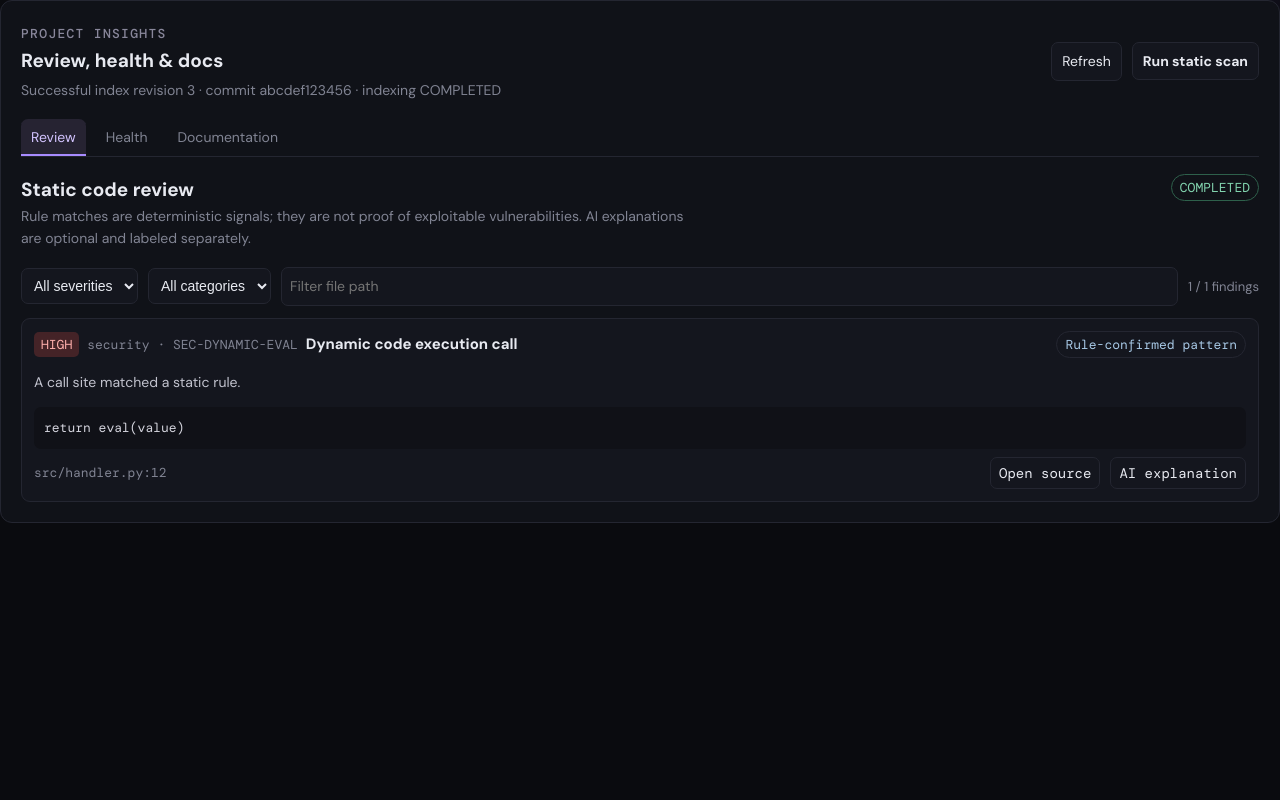
Test: ProjectInsights › shows versioned metrics, filters rule findings, labels AI hypotheses, and previews generated Markdown
Expected: the text "Dynamic code execution call" is shown, [306,333,518,356]
Expected: the text "Rule-confirmed pattern" is shown, [1056,331,1246,358]
Click the button "AI explanation" at {"x": 1178, "y": 473}, box [1110,457,1246,489]
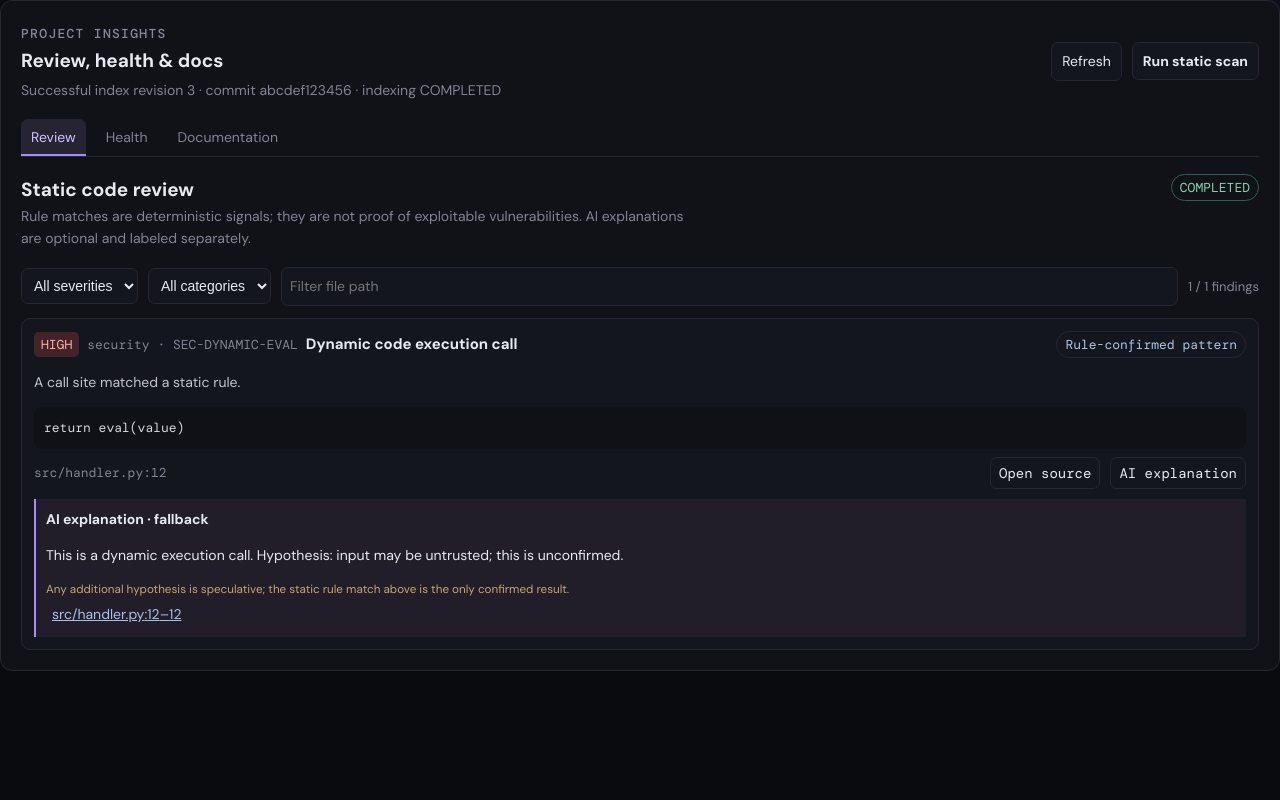
Expected: the text "This is a dynamic execution call" is shown, [46,546,623,564]
Expected: the text "speculative; the static rule match above is the only confirmed result" is shown, [46,581,569,597]
Select "low" in the dropdown named "Filter by severity" at {"x": 80, "y": 286}, box [21,268,138,304]
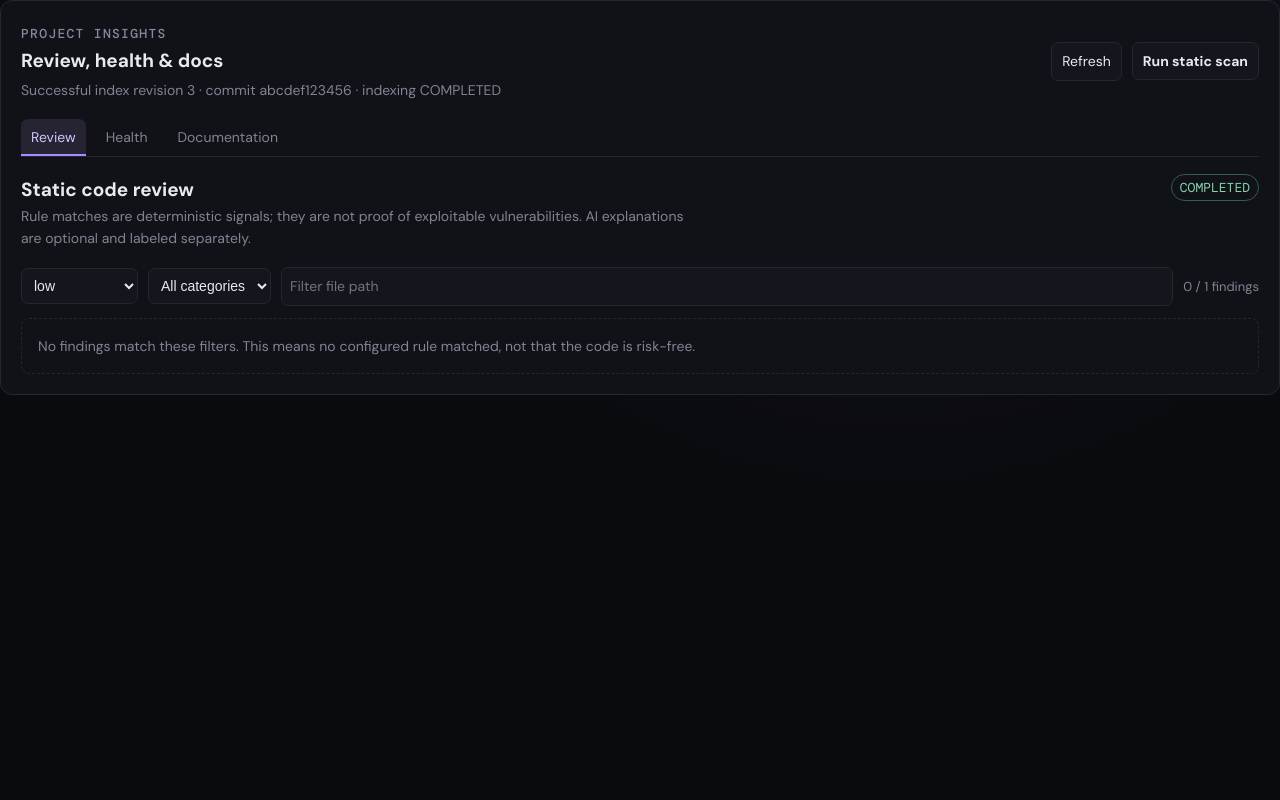
Expected: the text "No findings match these filters" is shown, [38,337,695,355]
Select "high" in the dropdown named "Filter by severity" at {"x": 80, "y": 286}, box [21,268,138,304]
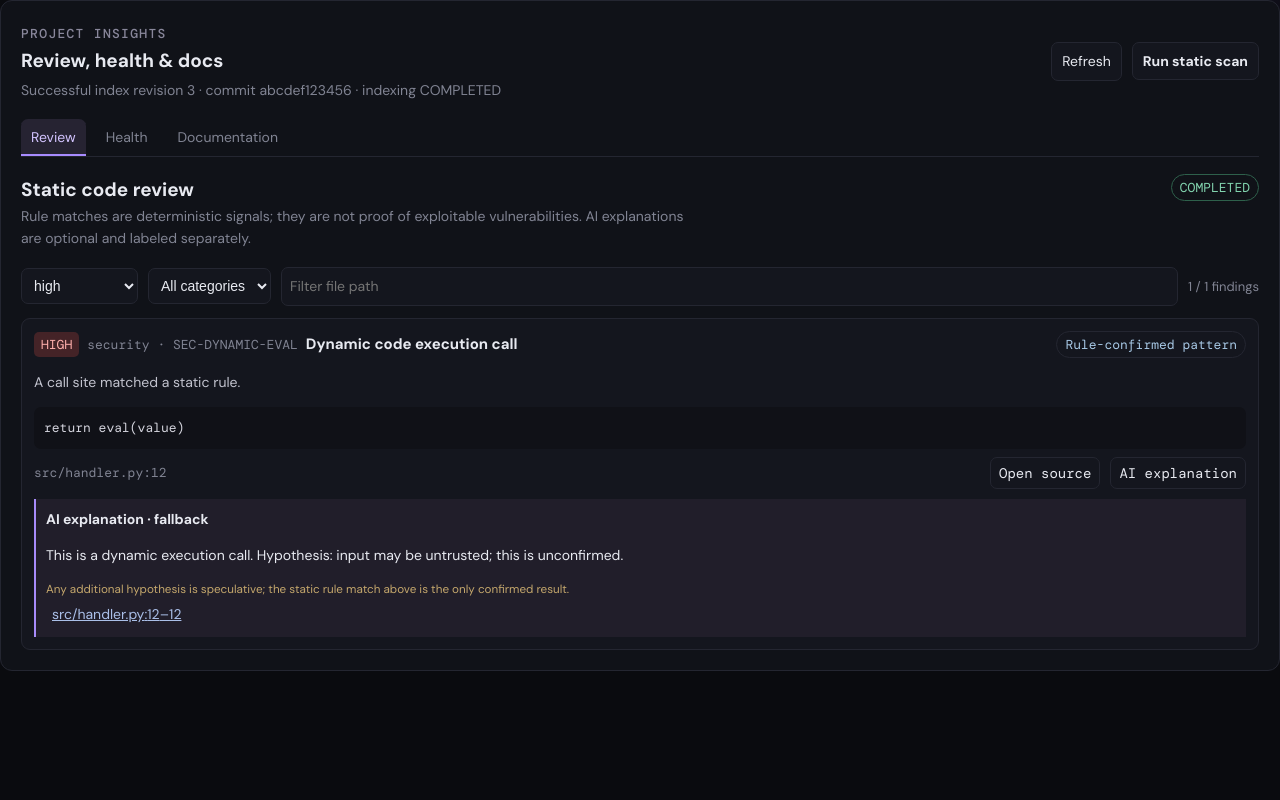
Expected: the text "Dynamic code execution call" is shown, [306,333,518,356]
Click the button "Health" at {"x": 127, "y": 137}, box [96,119,158,156]
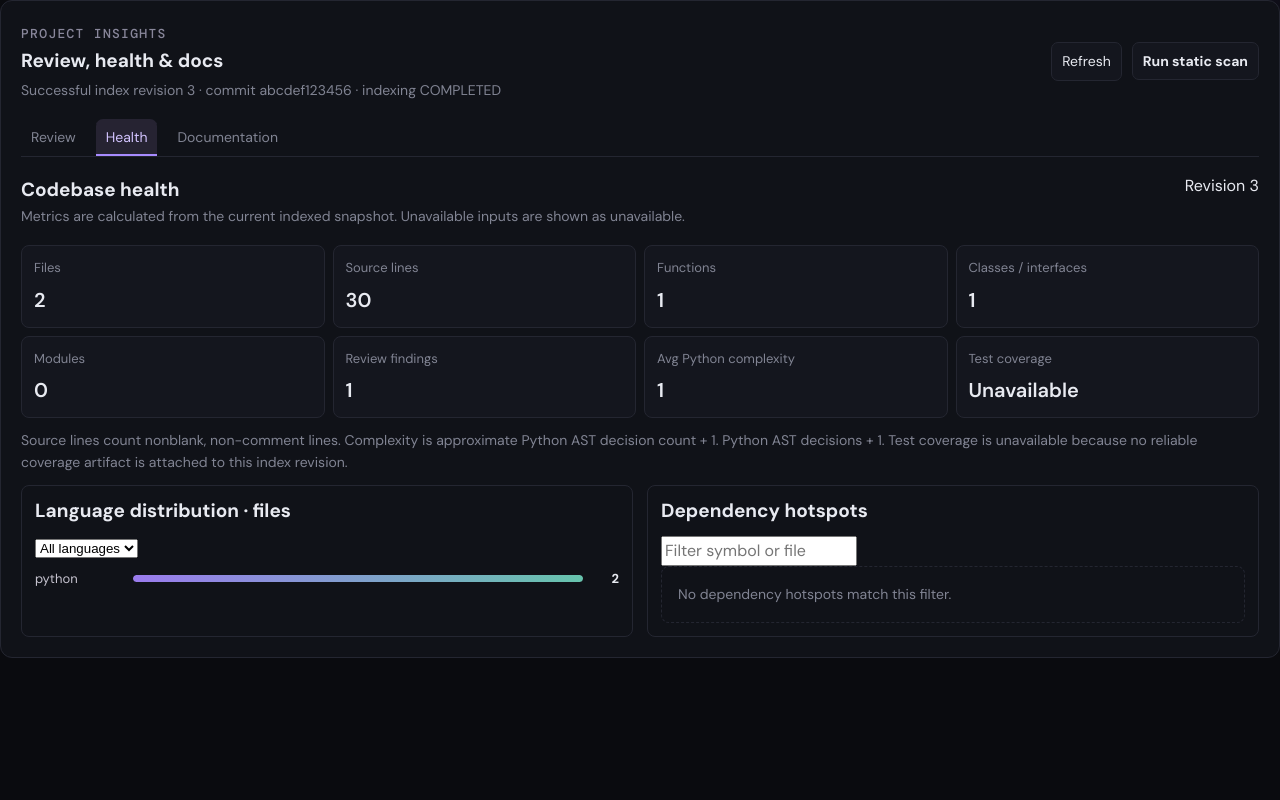
Expected: the text "30" is shown, [346,287,372,313]
Expected: the text "Unavailable" is shown, [968,377,1079,403]
Click the button "Documentation" at {"x": 228, "y": 137}, box [167,119,288,156]
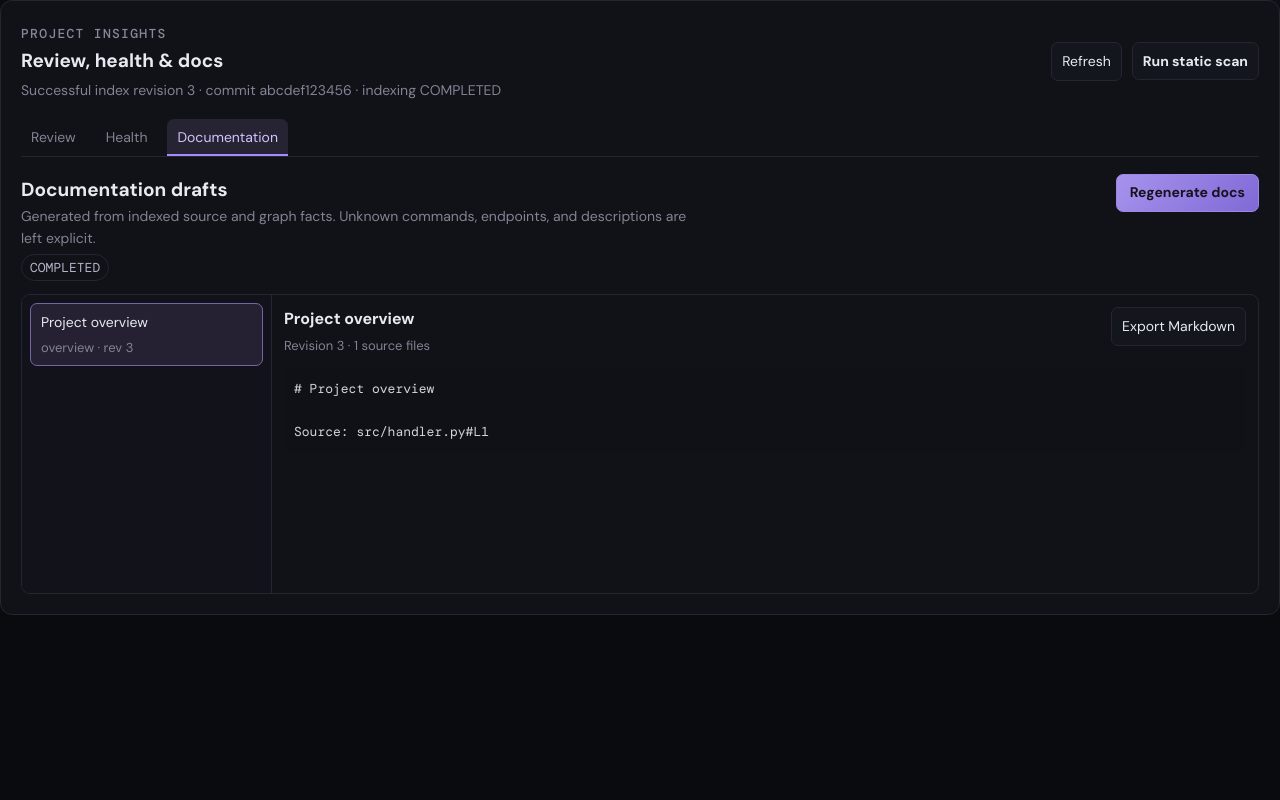
Expected: the button "Export Markdown" is shown, [1111,307,1246,346]
